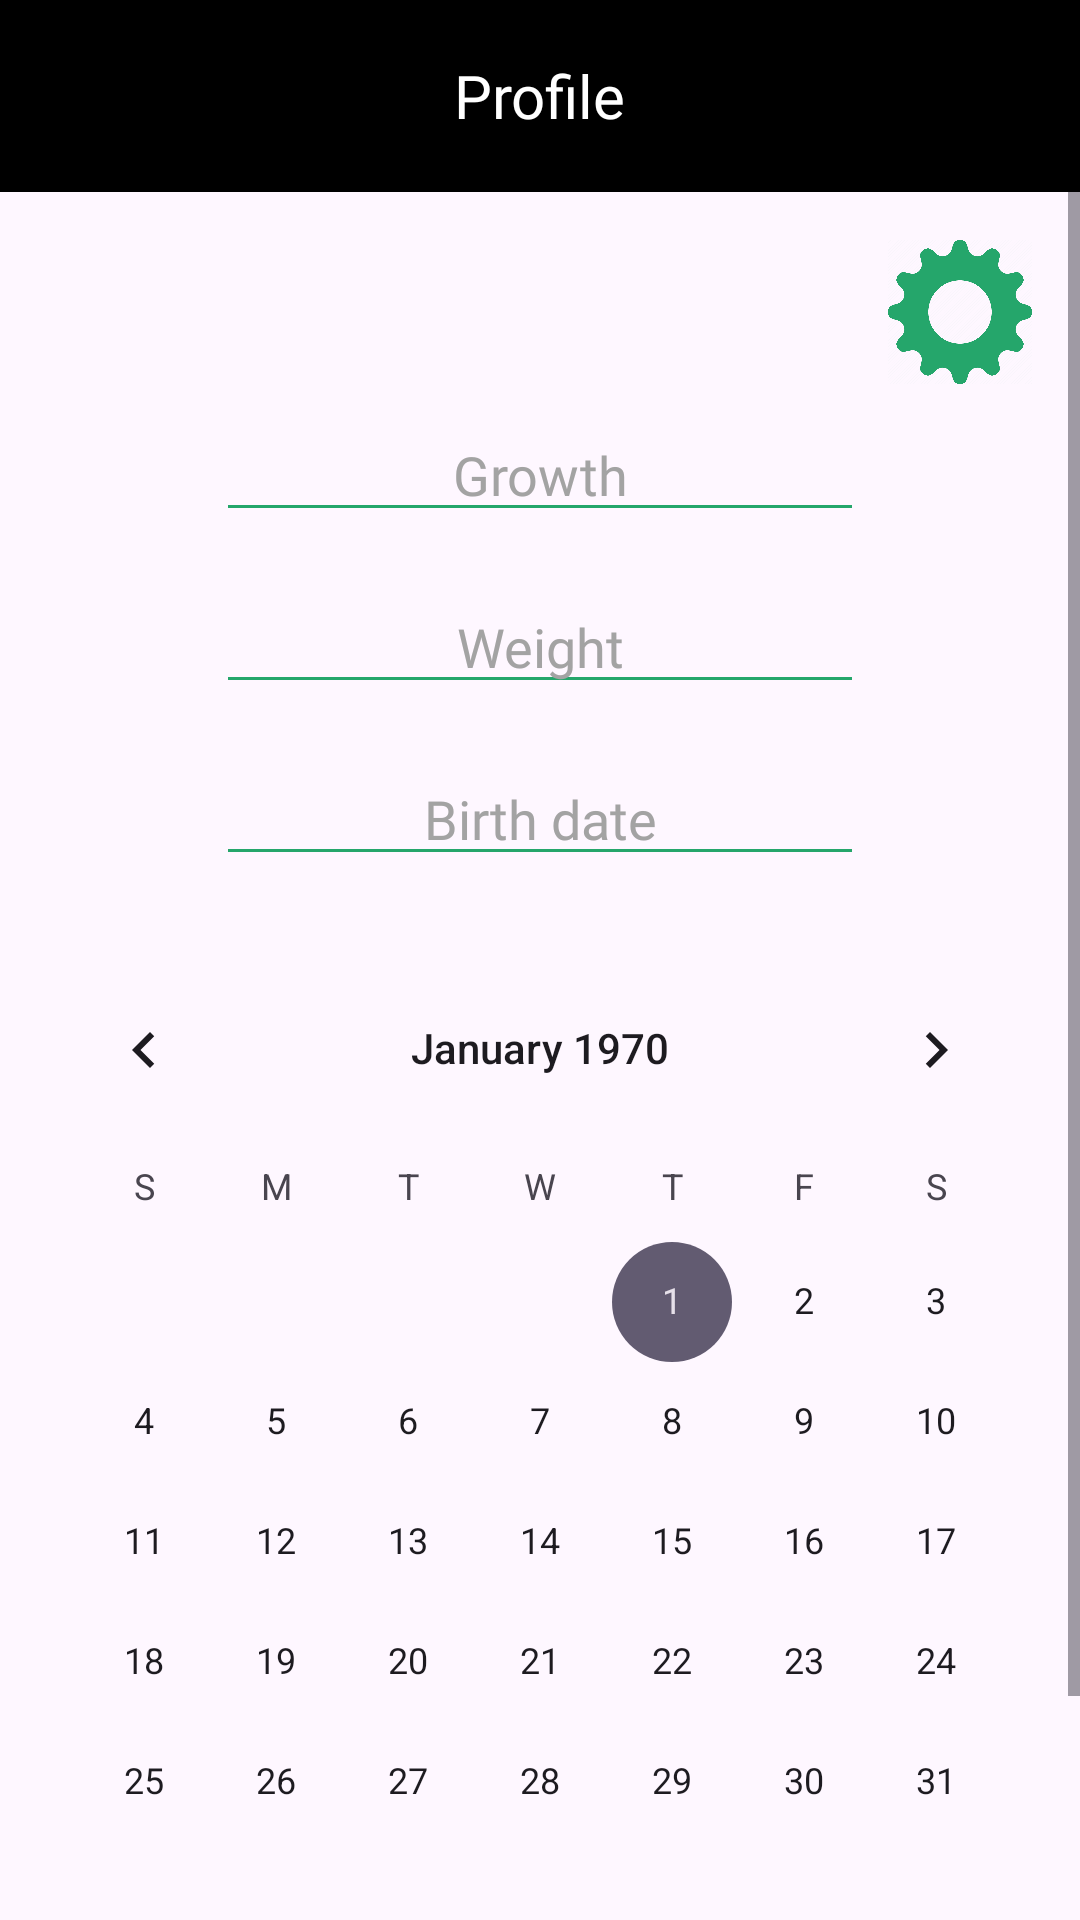

Named icons in this screenshot (1080×1920) and their bounding boxes, (x1, y1, x2, y2):
settings: (888, 240, 1032, 384)
